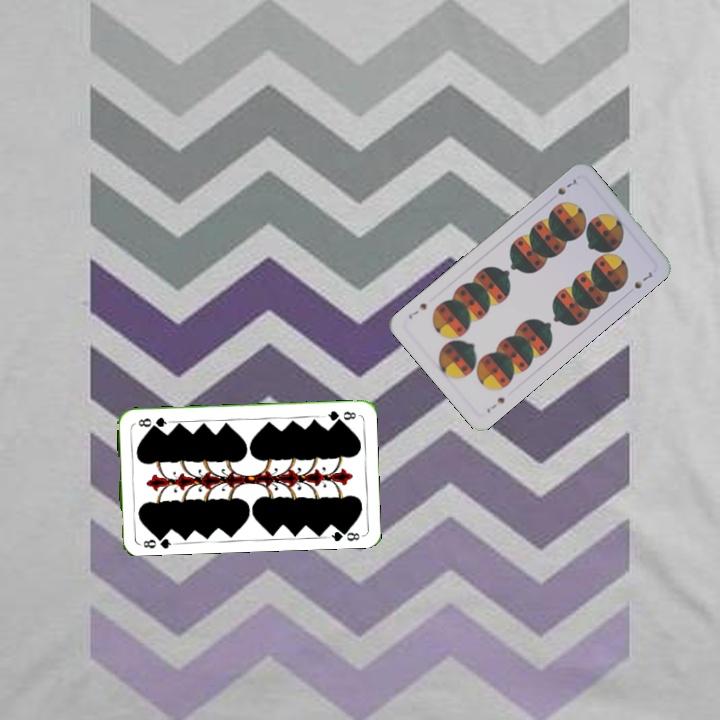G8: (139, 530, 176, 551), (320, 407, 359, 423)
S7: (554, 175, 579, 198), (482, 393, 507, 416)
